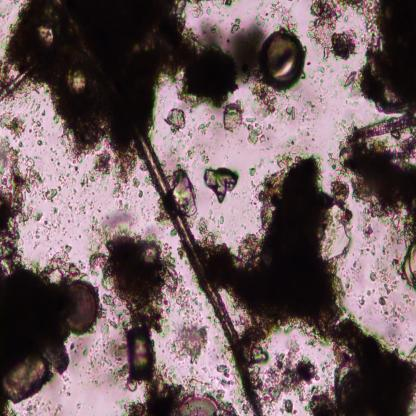Background material: (191, 155, 416, 413), (0, 1, 180, 166), (88, 219, 188, 415), (0, 139, 71, 410), (169, 0, 240, 108), (337, 150, 416, 237), (359, 0, 416, 115), (258, 344, 316, 416), (80, 150, 144, 214), (168, 280, 212, 370), (308, 0, 359, 62), (320, 175, 356, 258), (225, 22, 266, 86), (285, 92, 322, 148), (222, 104, 268, 144), (367, 258, 401, 312), (250, 82, 296, 121), (166, 164, 199, 217), (202, 164, 240, 205), (253, 0, 299, 33), (166, 135, 210, 164), (399, 237, 416, 294), (187, 0, 235, 20), (360, 209, 378, 259), (216, 359, 238, 398), (164, 100, 189, 134), (0, 112, 26, 136)
Diatom: (345, 112, 416, 161), (260, 29, 306, 90), (61, 277, 100, 335), (173, 392, 223, 415), (344, 70, 358, 88)
